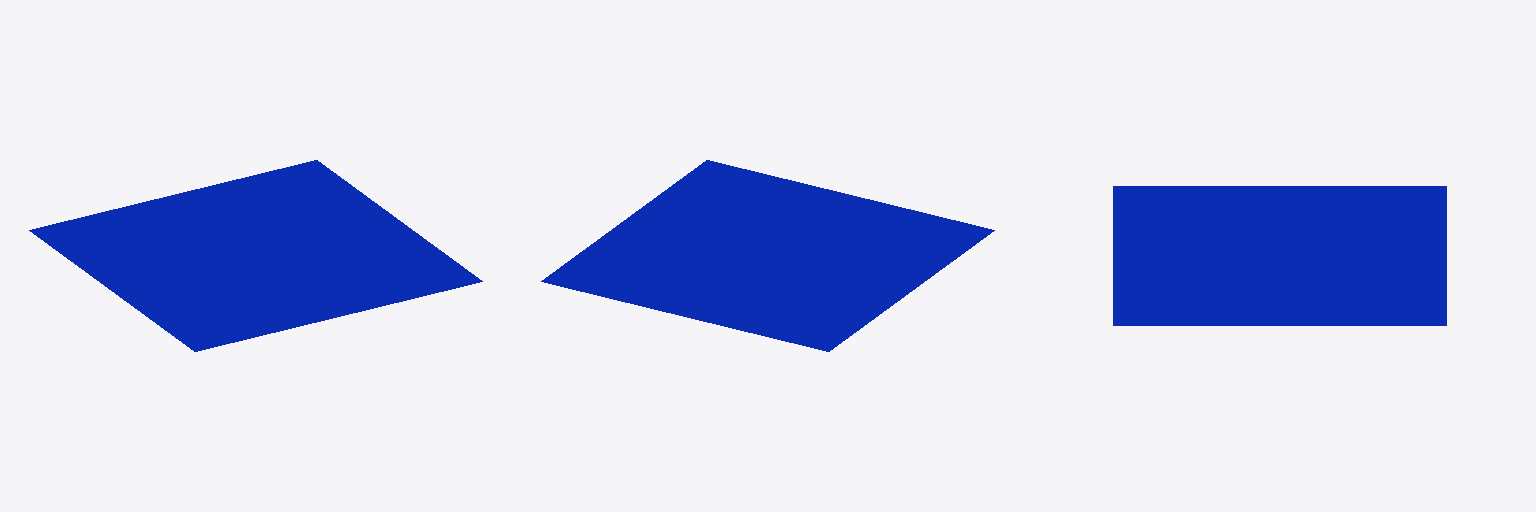
3 views of the same model, side by side, from view 1: azimuth 30°, elevation 25°; view 2: azimuth 150°, elevation 25°; view 3: azimuth 270°, elevation 25° (orthographic).
Visible parts, largest first — view 1: 平面; view 2: 平面; view 3: 平面.
Part boxes in pixels (x1,y1,x2,y2): 平面: (29,160,482,351); 平面: (541,160,994,351); 平面: (1113,186,1446,325).
Size of the model in its own units: 255 by 0 by 255.